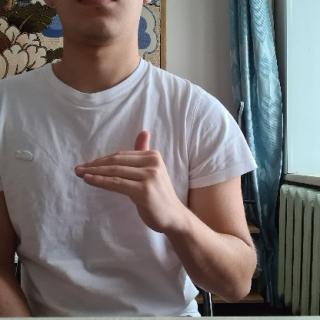KHAA: (70, 129, 192, 239)
